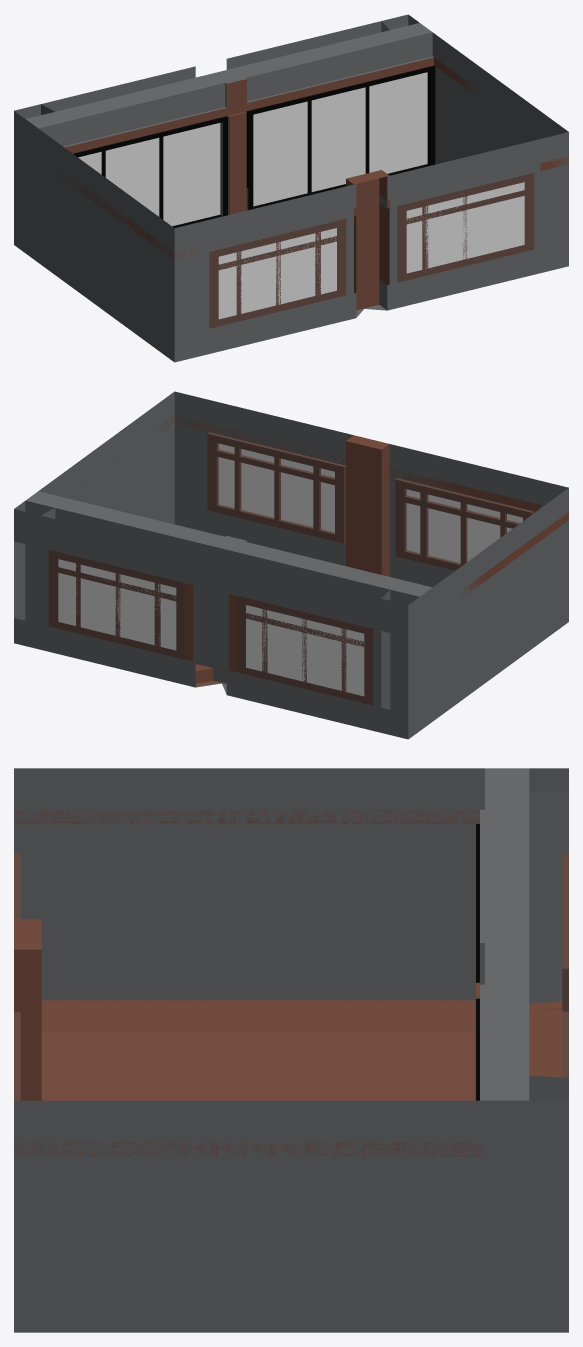
Rendered from japaneseHouse.fbx.
The picture shows the model from 3 angles, top to bottom: view 1: azimuth 30°, elevation 25°; view 2: azimuth 150°, elevation 25°; view 3: azimuth 270°, elevation 25°; orthographic projection. The views are drawn at different scales.
Visible parts, largest first — view 1: 平面, 平面.003, 平面.002, 平面.001; view 2: 平面, 平面.002, 平面.001; view 3: 平面, 平面.001, 平面.003.
Boxes of the visible parts, <box> form: 平面: <box>14,14,568,362</box>; 平面.003: <box>73,65,435,228</box>; 平面.002: <box>218,182,524,319</box>; 平面.001: <box>209,173,534,328</box>; 平面: <box>14,391,568,739</box>; 平面.002: <box>58,443,522,696</box>; 平面.001: <box>48,432,534,705</box>; 平面: <box>14,768,568,1332</box>; 平面.001: <box>14,853,568,1100</box>; 平面.003: <box>476,824,484,1332</box>.
Size of the model in its own units: 1320 by 429 by 931.
